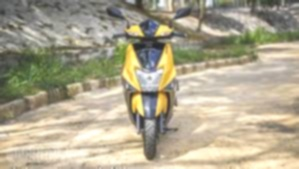Vehicle: (105, 6, 191, 160)
